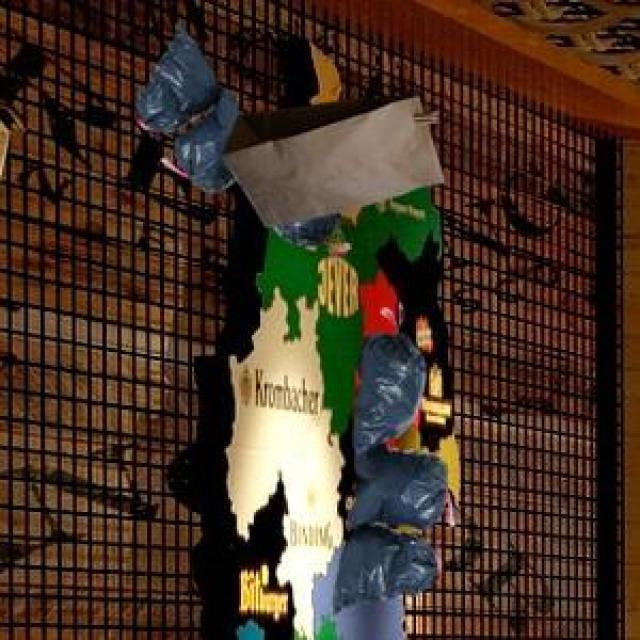miscellaneous trash: (132, 21, 337, 241), (329, 329, 450, 610)
paper: (218, 92, 440, 222)
